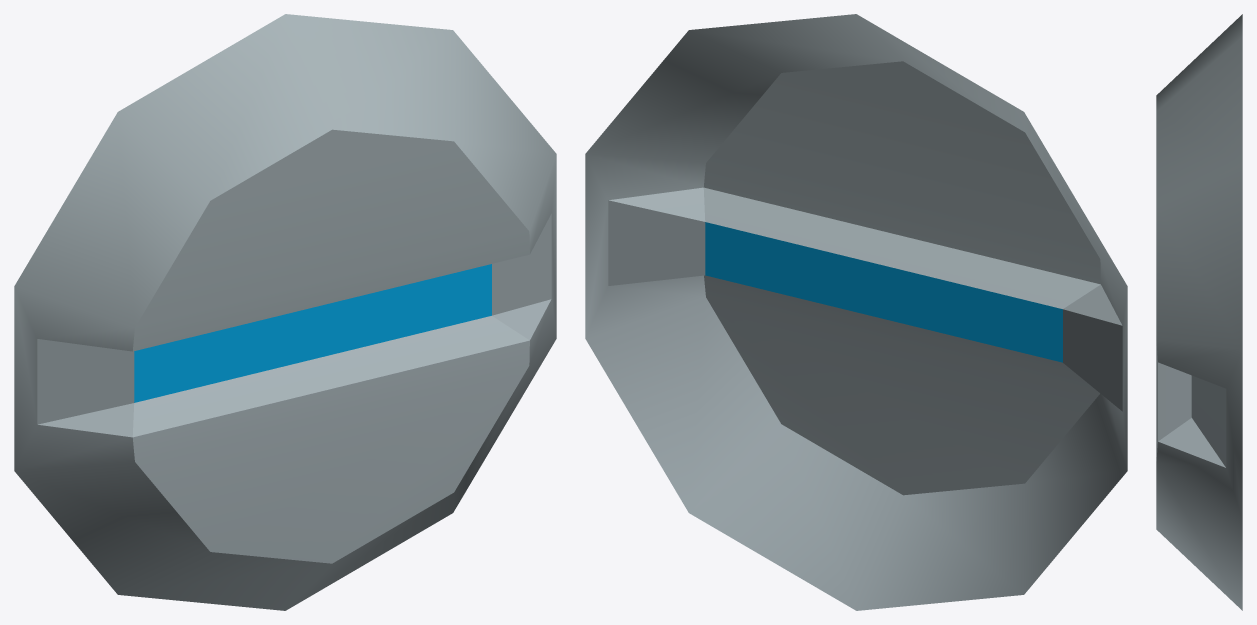
File: Door_panel_009.fbx
3 views of the same model, side by side, from view 1: azimuth 30°, elevation 25°; view 2: azimuth 150°, elevation 25°; view 3: azimuth 270°, elevation 25° (orthographic). The views are drawn at different scales.
Parts seen in each view (by area): view 1: Door_panel_009; view 2: Door_panel_009; view 3: Door_panel_009.
Part boxes in pixels (x1,y1,x2,y2): Door_panel_009: [14, 14, 556, 610]; Door_panel_009: [585, 14, 1127, 610]; Door_panel_009: [1156, 14, 1242, 610].
Size of the model in its own units: 42.05 by 6.27 by 44.22.
